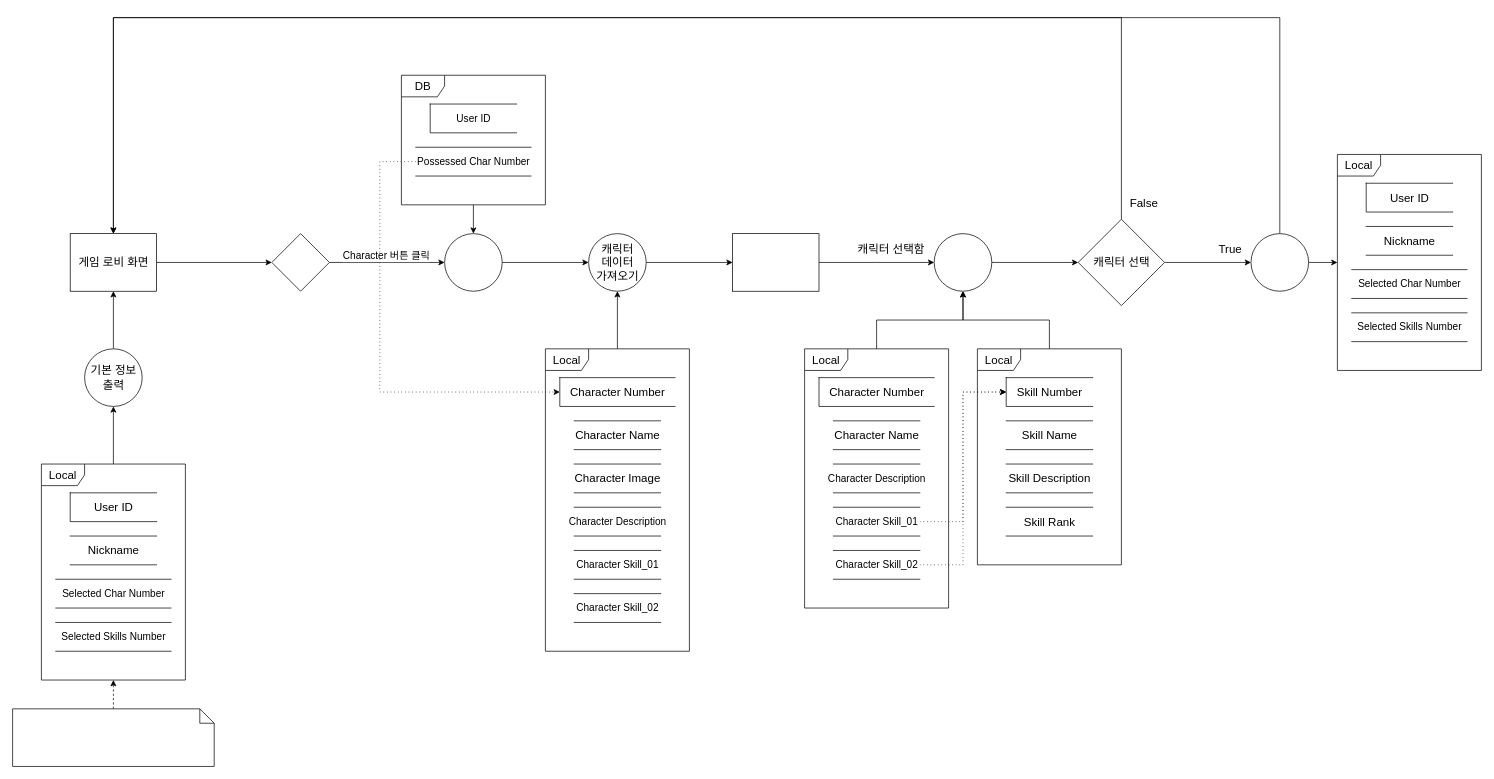
The diagram is 1494 pixels wide and 779 high, and some of its shapes have lost their labels. The centre of each missing label's shape, as x and y in pixels:
"Seleted Char Number = (Default) 01 selected Skills Number[] = (Default) {01, 02}" belongs at (113,737).
"보유 캐릭터 정보" belongs at (473,262).
"선택 정보 저장" belongs at (1279,262).
"캐릭터 선택 화면" belongs at (775,262).
"캐릭터 정보 출력" belongs at (962,262).
